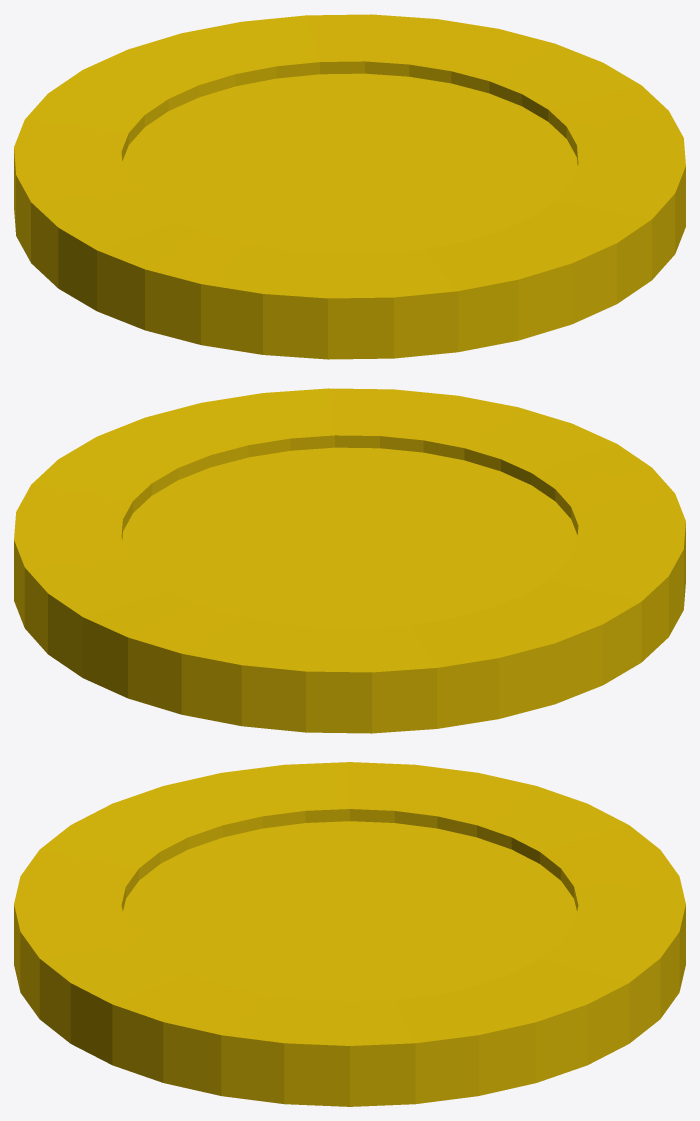
File: Coin.obj
The picture shows the model from 3 angles, top to bottom: view 1: azimuth 30°, elevation 25°; view 2: azimuth 150°, elevation 25°; view 3: azimuth 270°, elevation 25°; orthographic projection.
Visible parts, largest first — view 1: Coin; view 2: Coin; view 3: Coin.
Boxes of the visible parts, x1=… form: Coin: x1=14, y1=14, x2=685, y2=359; Coin: x1=14, y1=388, x2=685, y2=733; Coin: x1=14, y1=762, x2=685, y2=1106.
Bounding box in the file's own units: 2 × 0.2 × 2.
